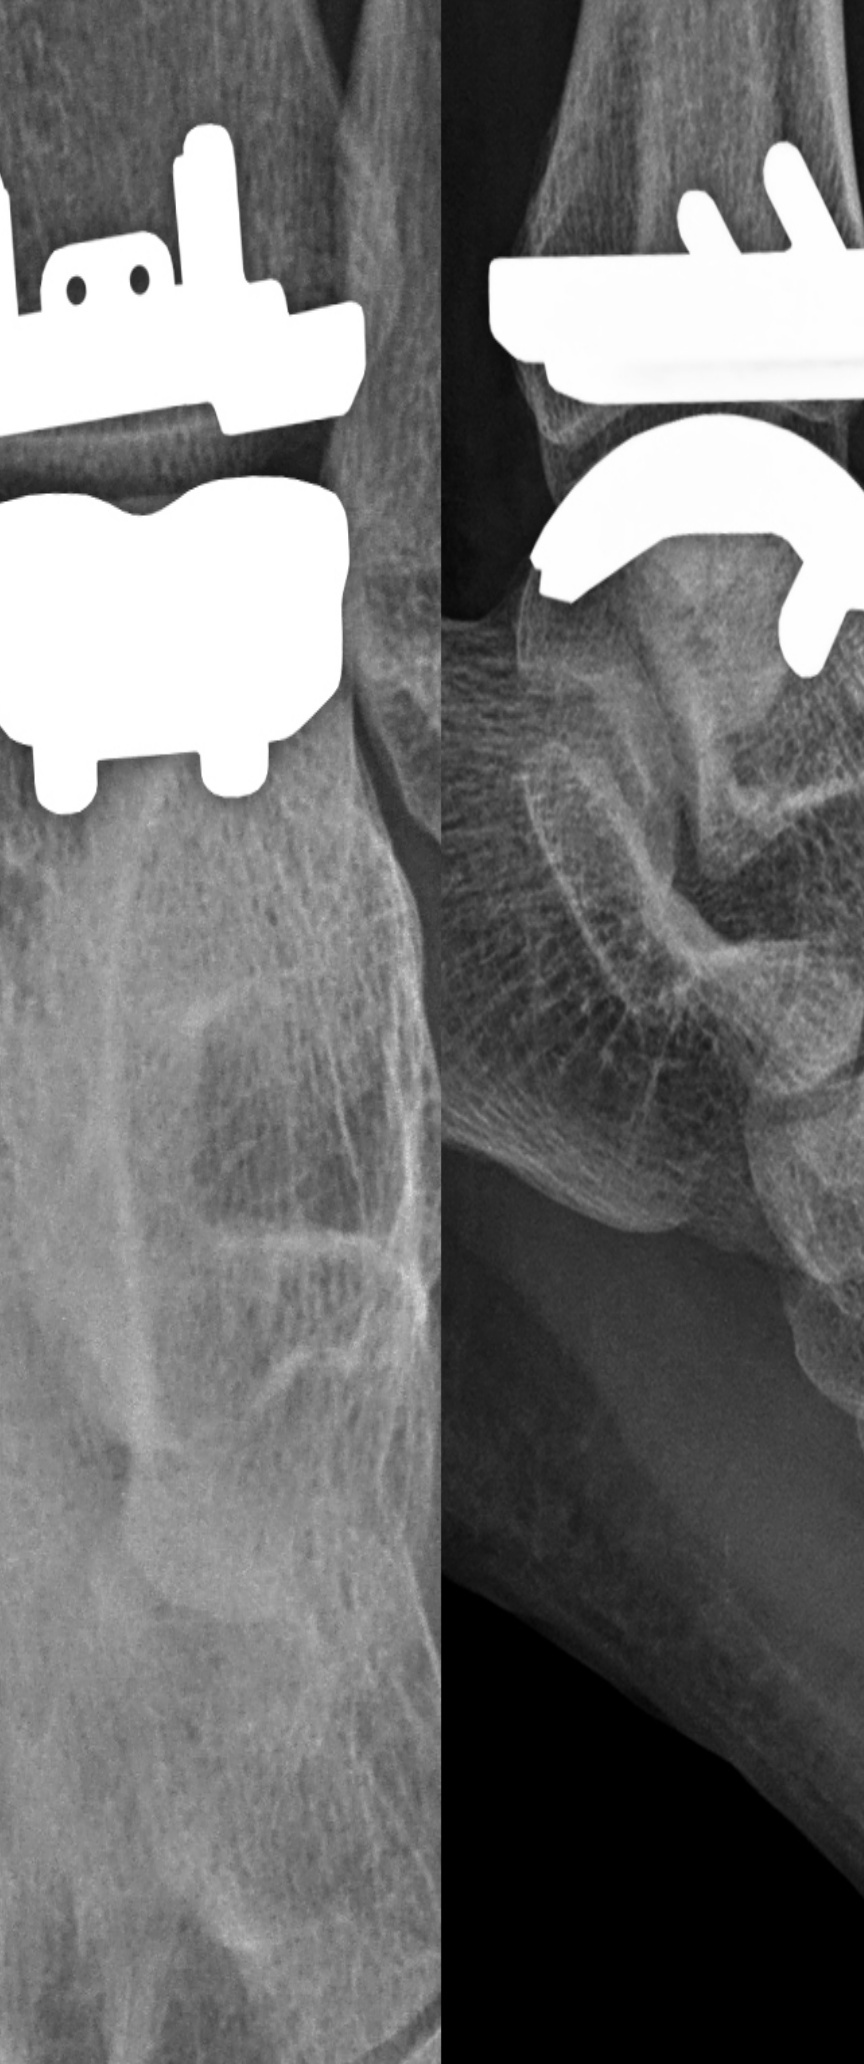Cadence-Integra: (1, 115, 394, 842), (462, 134, 864, 712)
